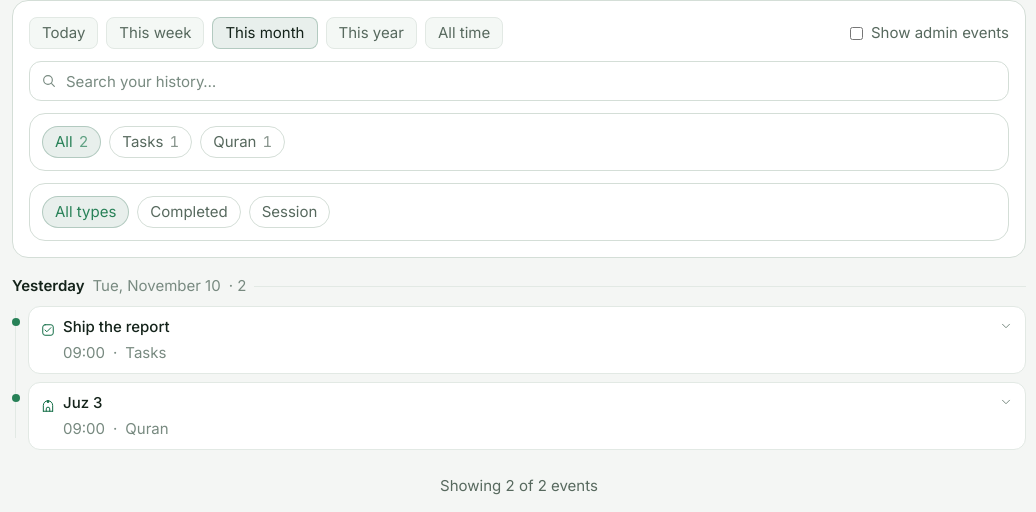
LifeTimeline — reading the feed › filters by area from the chips
Note: The area appears in both the chip row and the event-type row is absent, so pick the chip.
Step 1. Click the button "Quran 1" → x=243, y=142, box [200, 126, 285, 158]
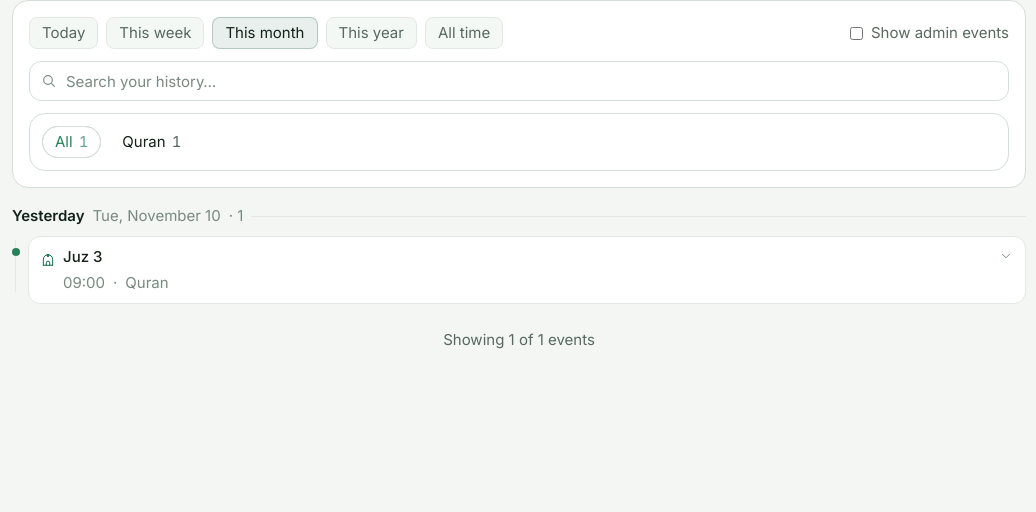
Check: the text "Juz 3" is shown, box [63, 247, 102, 266]
Check: the button "Ship the report" is gone
